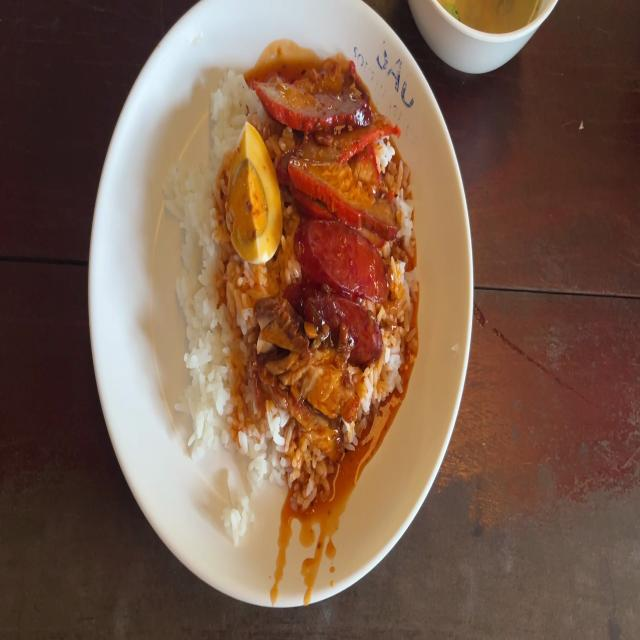01boiled_egg: (235, 139, 272, 256)
01chainese_sausage: (303, 221, 389, 355)
01crispy_pork: (292, 355, 371, 451), (260, 296, 304, 386)
01red_pork: (279, 64, 396, 198)
01red_pork_and_crispy_pork: (177, 62, 404, 467)
01rice: (176, 259, 256, 473), (176, 170, 228, 262), (206, 72, 246, 162)
